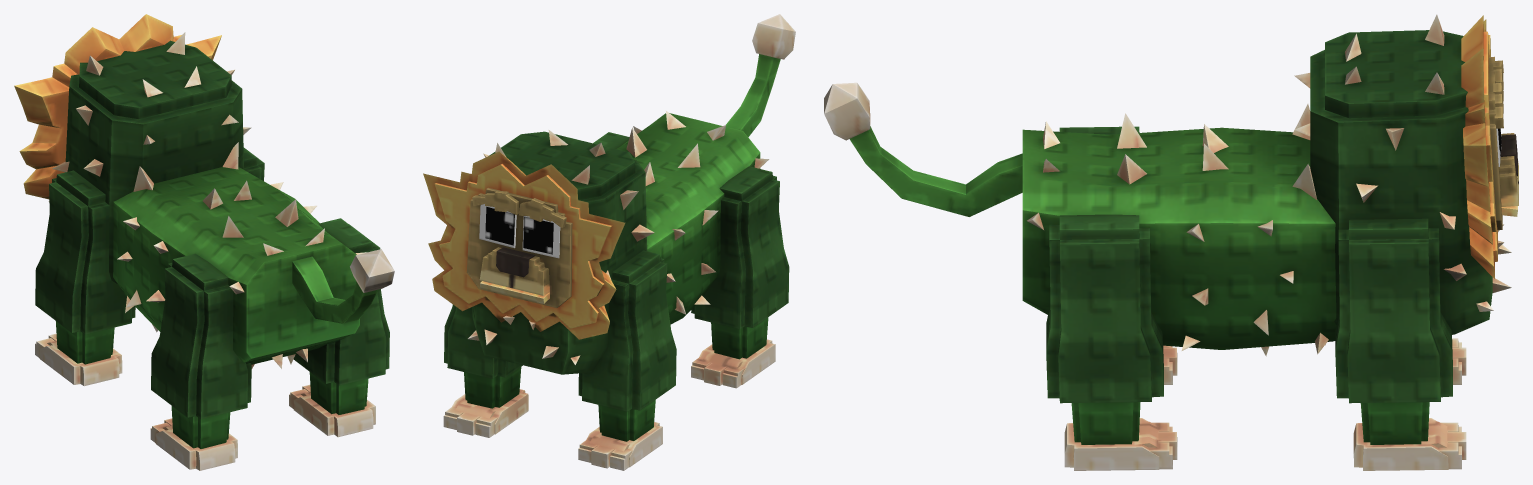
The model's file is Lionel Cactuseli.fbx.
3 views of the same model, side by side, from view 1: azimuth 30°, elevation 25°; view 2: azimuth 150°, elevation 25°; view 3: azimuth 270°, elevation 25° (orthographic). The views are drawn at different scales.
Visible parts, largest first — view 1: Lionel Cactuseli; view 2: Lionel Cactuseli; view 3: Lionel Cactuseli.
Boxes of the visible parts, left/top/right/bottom form: Lionel Cactuseli: left=14, top=14, right=394, bottom=470; Lionel Cactuseli: left=423, top=14, right=795, bottom=470; Lionel Cactuseli: left=824, top=14, right=1518, bottom=470.
Size of the model in its own units: 416 by 587 by 963.
